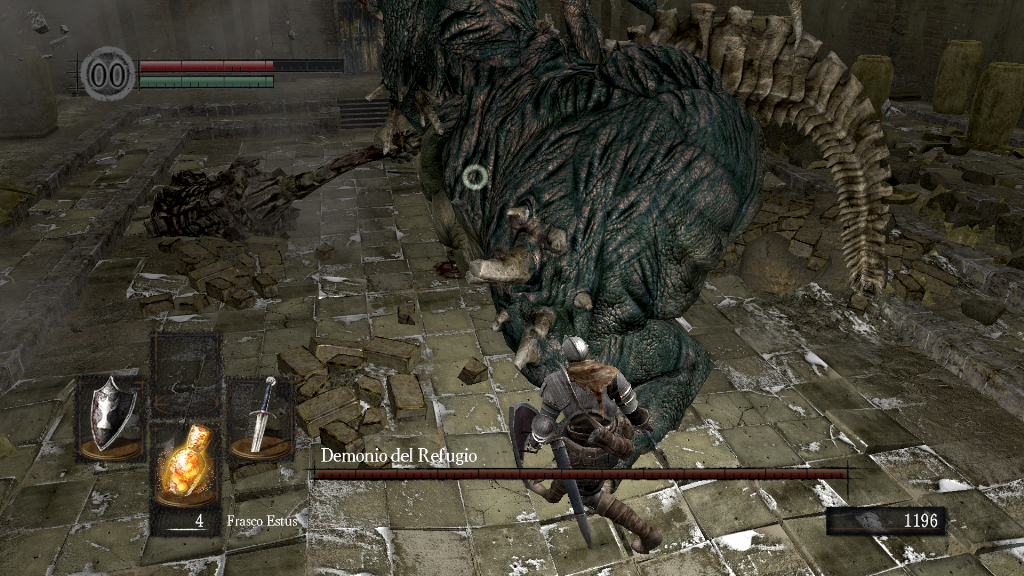asylumDemon: (351, 2, 889, 479)
bossHP: (314, 469, 847, 479)
health: (138, 58, 343, 71)
humanity: (80, 45, 136, 102)
player: (510, 334, 665, 556)
souls: (825, 506, 945, 536)
stamina: (138, 74, 274, 88)
